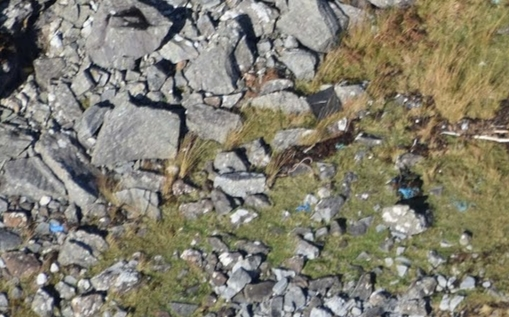scattered_barrel: (396, 172, 471, 216)
white_in_green: (35, 210, 79, 245), (282, 188, 326, 223)
